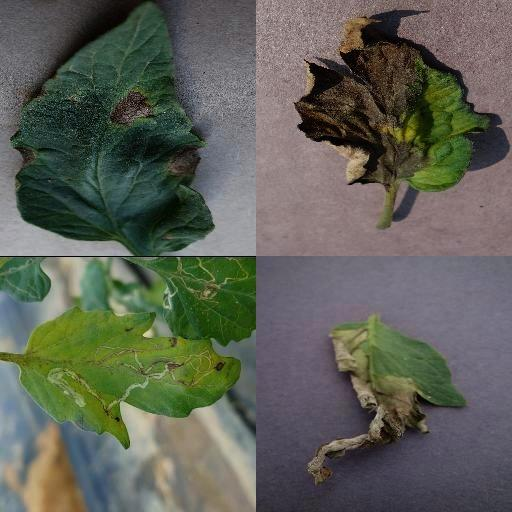Early Blight: (10, 2, 214, 256)
Late Blight: (293, 14, 493, 196), (306, 321, 466, 485)
Leaf Miner: (19, 304, 241, 450)
